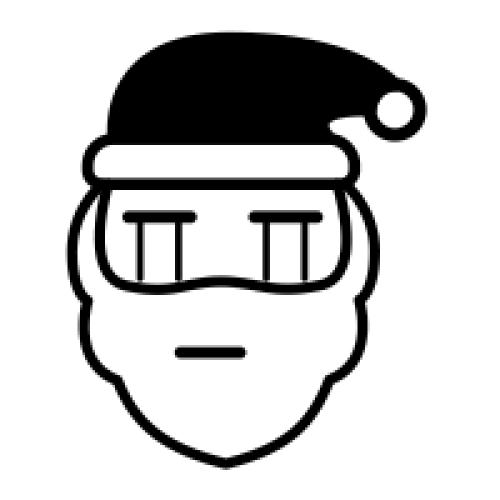Santa: (68, 30, 428, 470)
